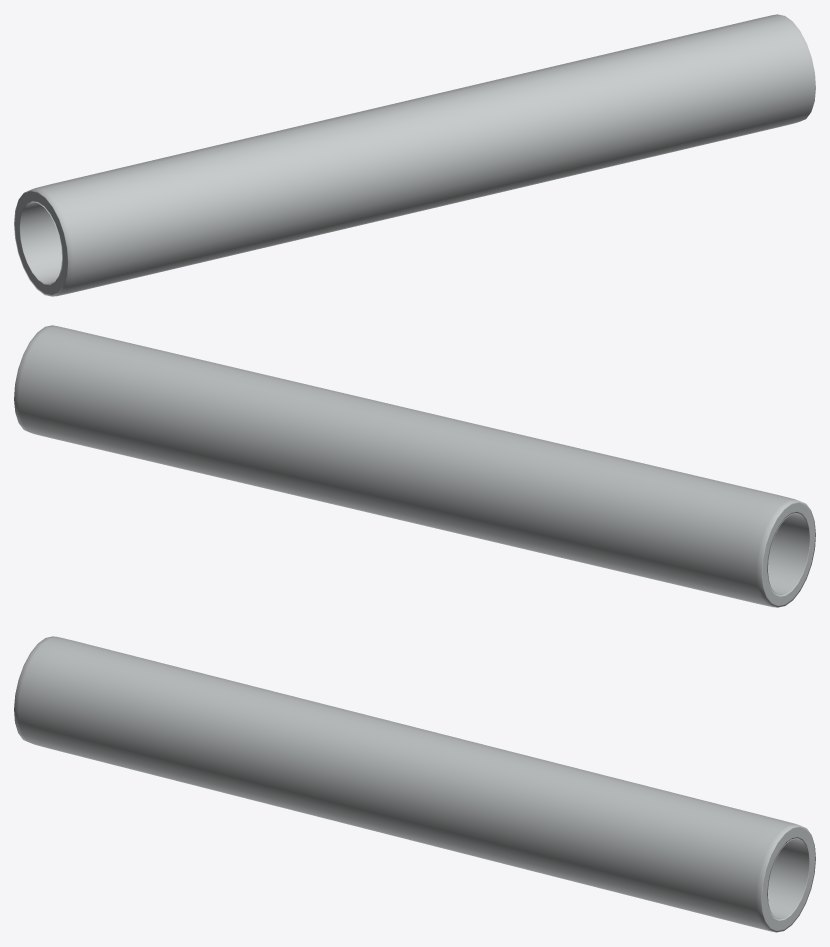
Rendered from pipe.gltf.
3 renders of one model, top to bottom at view 1: azimuth 30°, elevation 25°; view 2: azimuth 150°, elevation 25°; view 3: azimuth 330°, elevation 25°, orthographic.
Visible parts, largest first — view 1: Pipe; view 2: Pipe; view 3: Pipe.
Boxes of the visible parts, x1,y1,x2,y2 form: Pipe: (14,14,815,296); Pipe: (14,325,815,607); Pipe: (14,636,815,932).
Size of the model in its own units: 20.11 by 2.73 by 2.58.
Materials: 1 (1 with a texture image).
